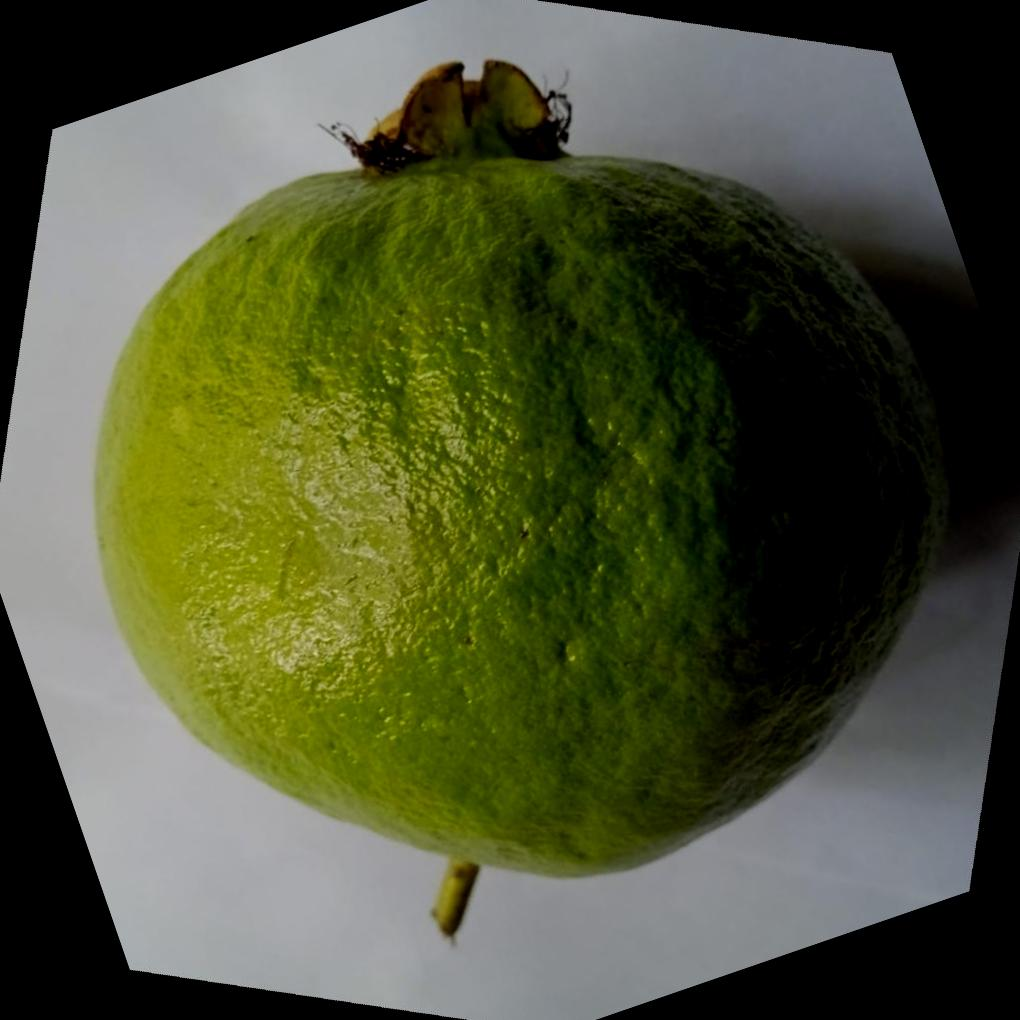FreshGuava: (90, 54, 953, 879)
